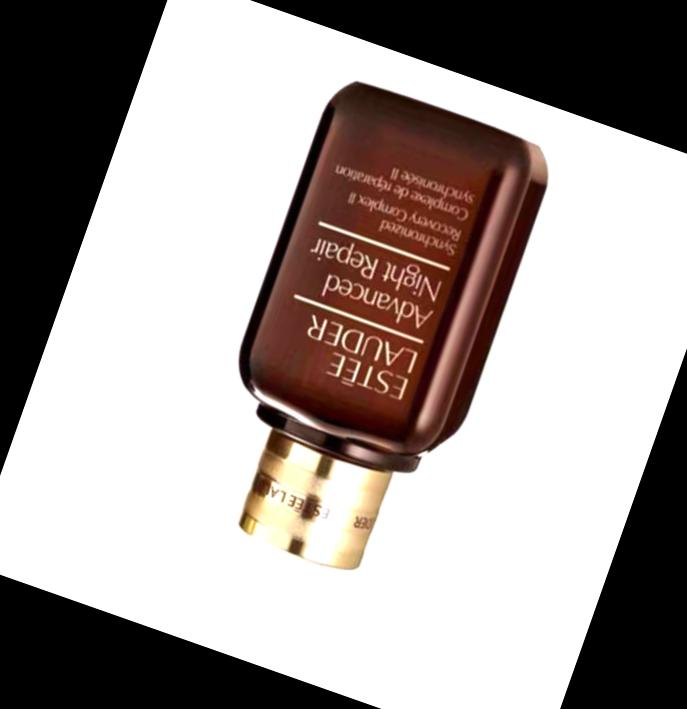cosmetic: (147, 79, 546, 682)
